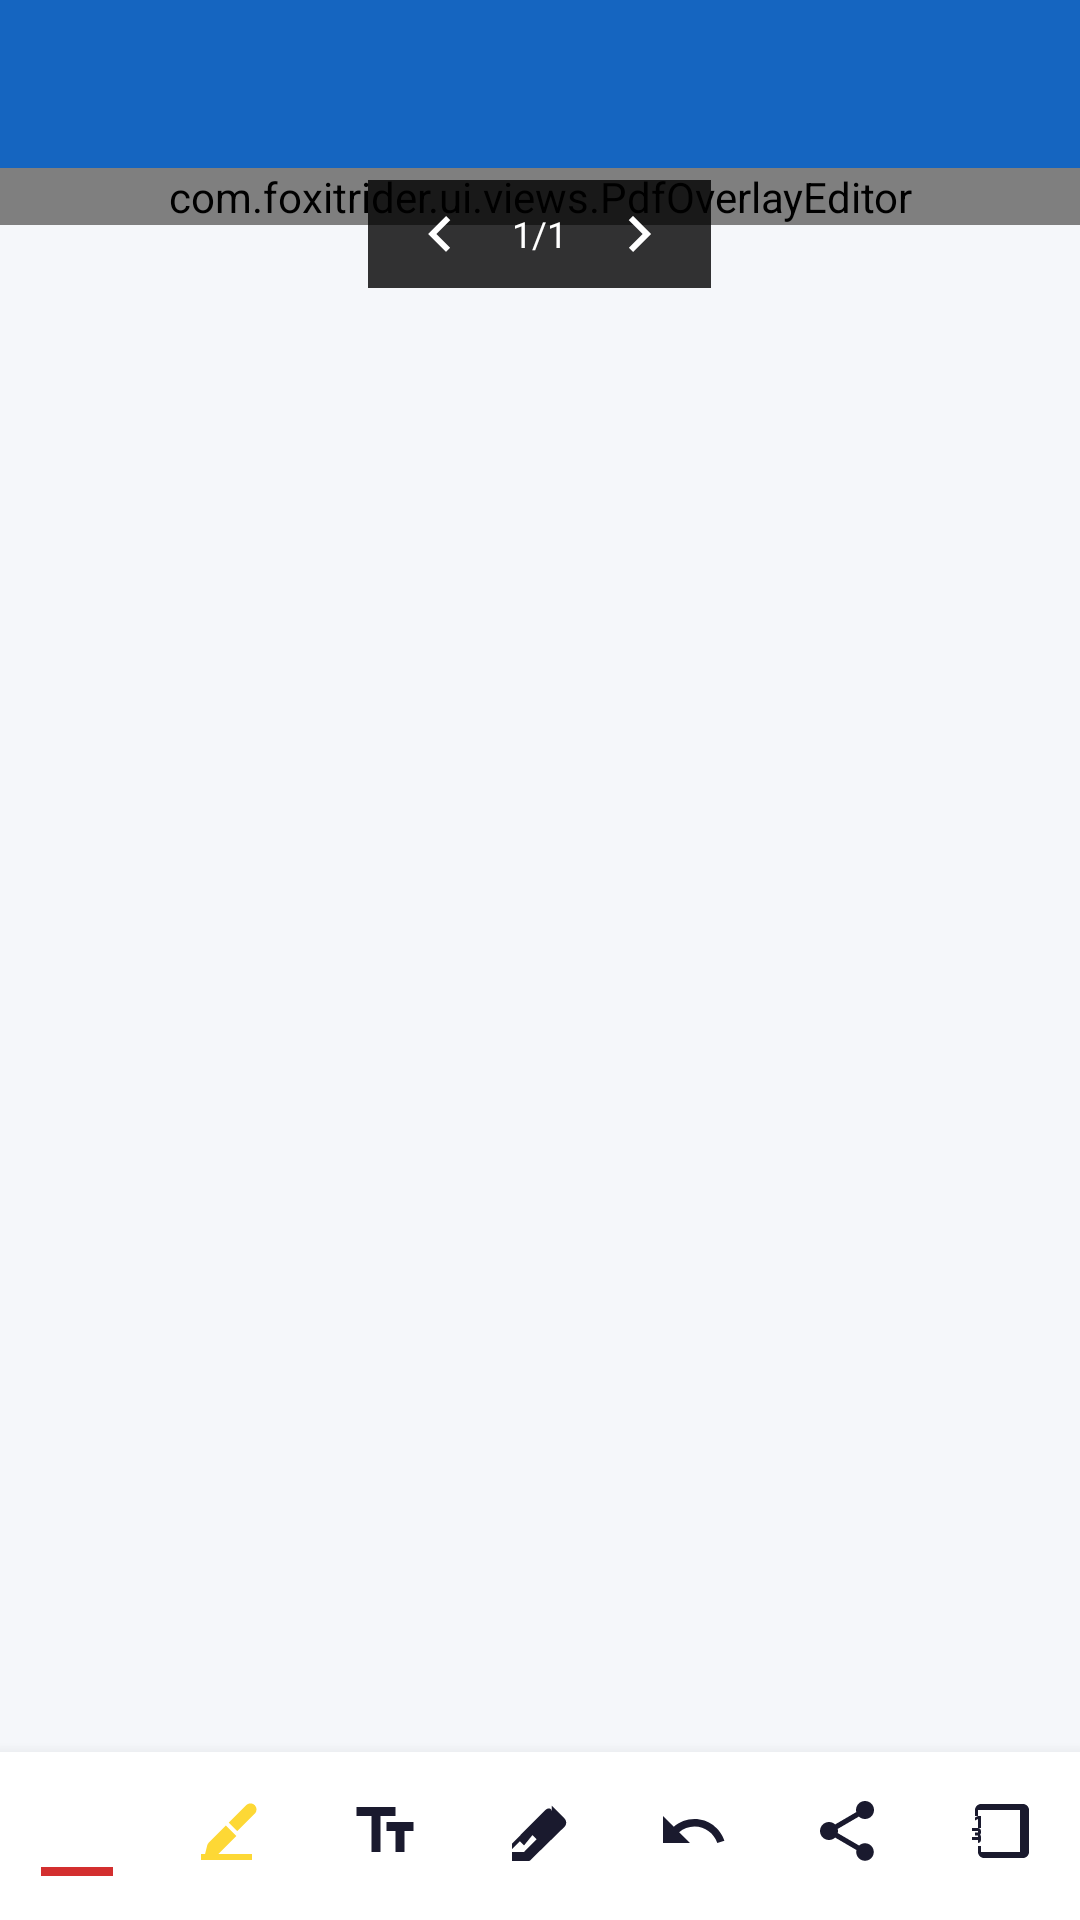

Point at icon controls on the screen. Image size 1080*1920, points as (x,y).
eraser: (539,1833)
highlight: (229,1831)
share: (847,1831)
text: (385,1829)
undo: (694,1829)
